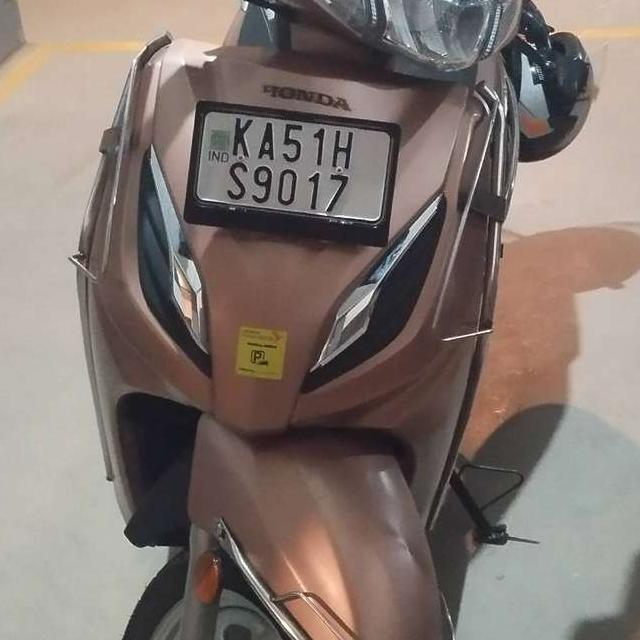Indian_Number_Plate: (186, 107, 401, 233)
